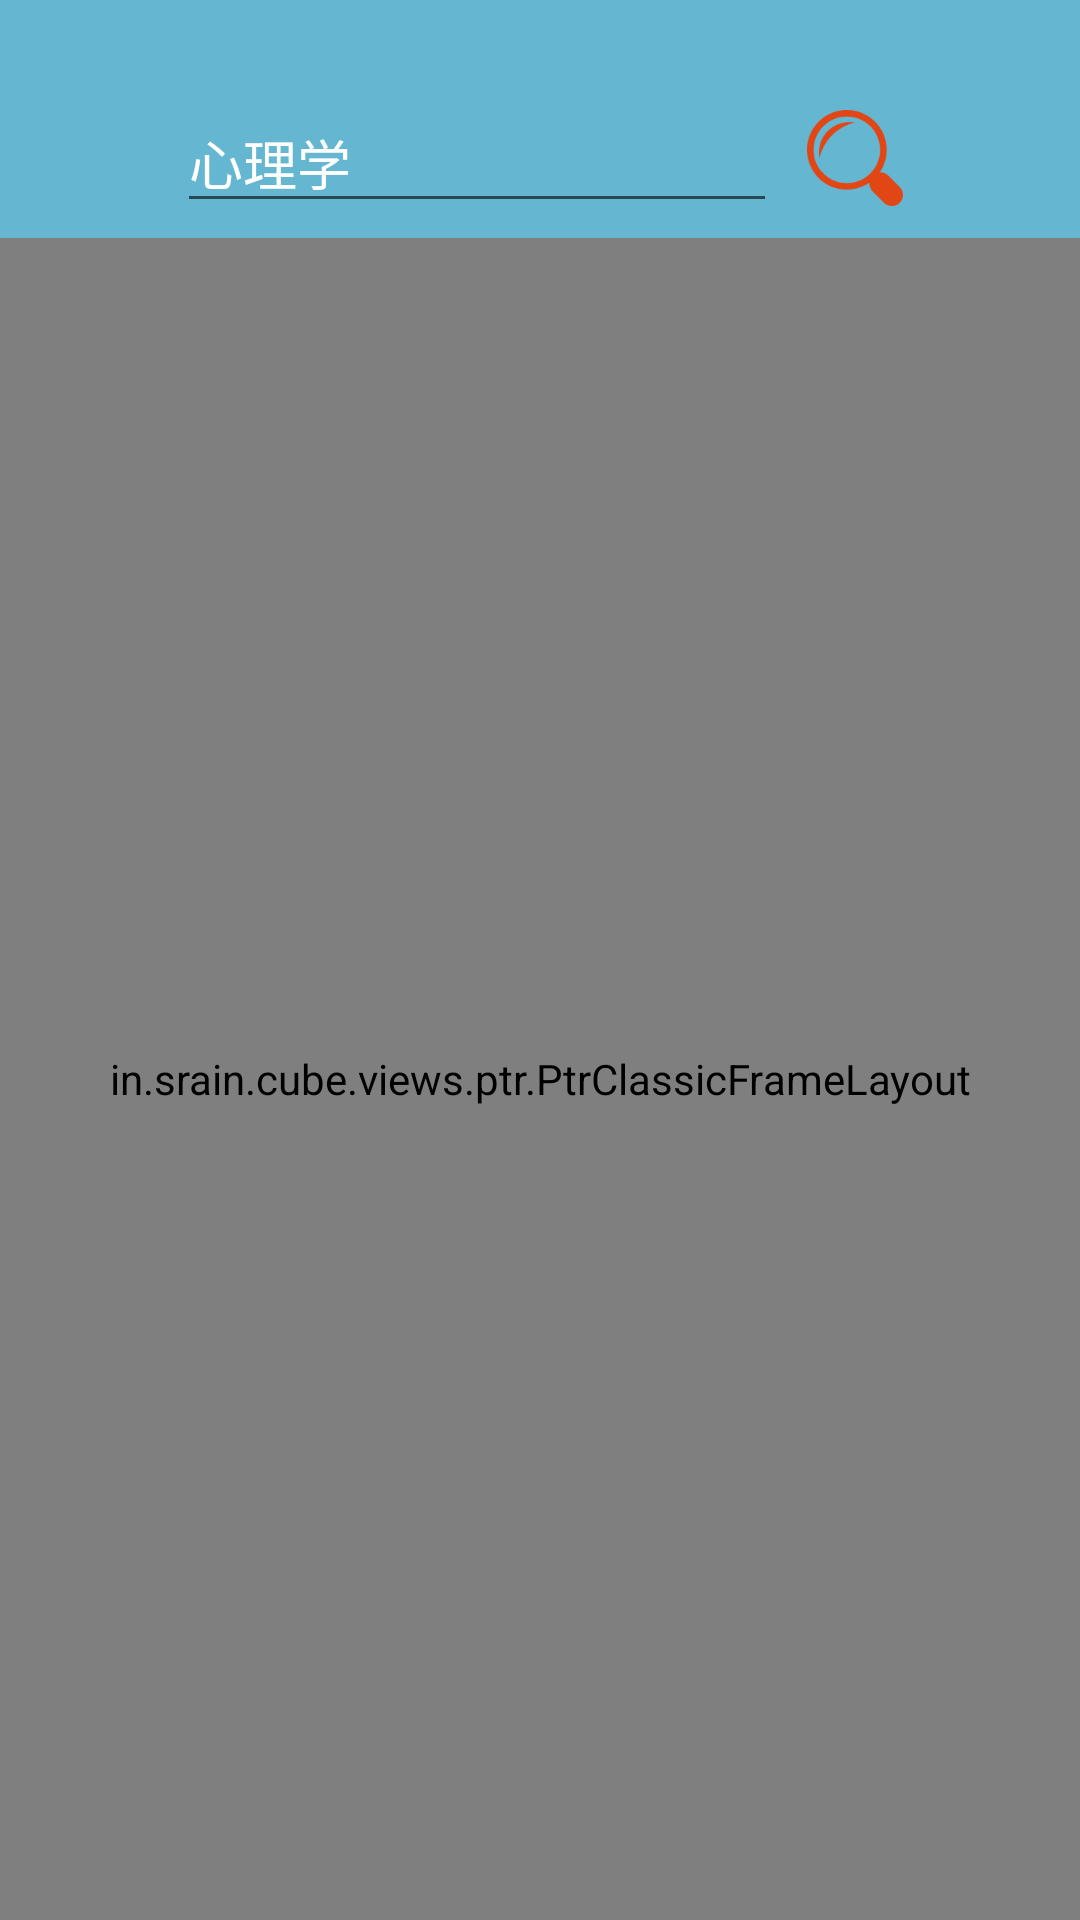

Named icons in this screenshot (1080*1920) and their centers, point (x, y):
search: point (855, 158)
